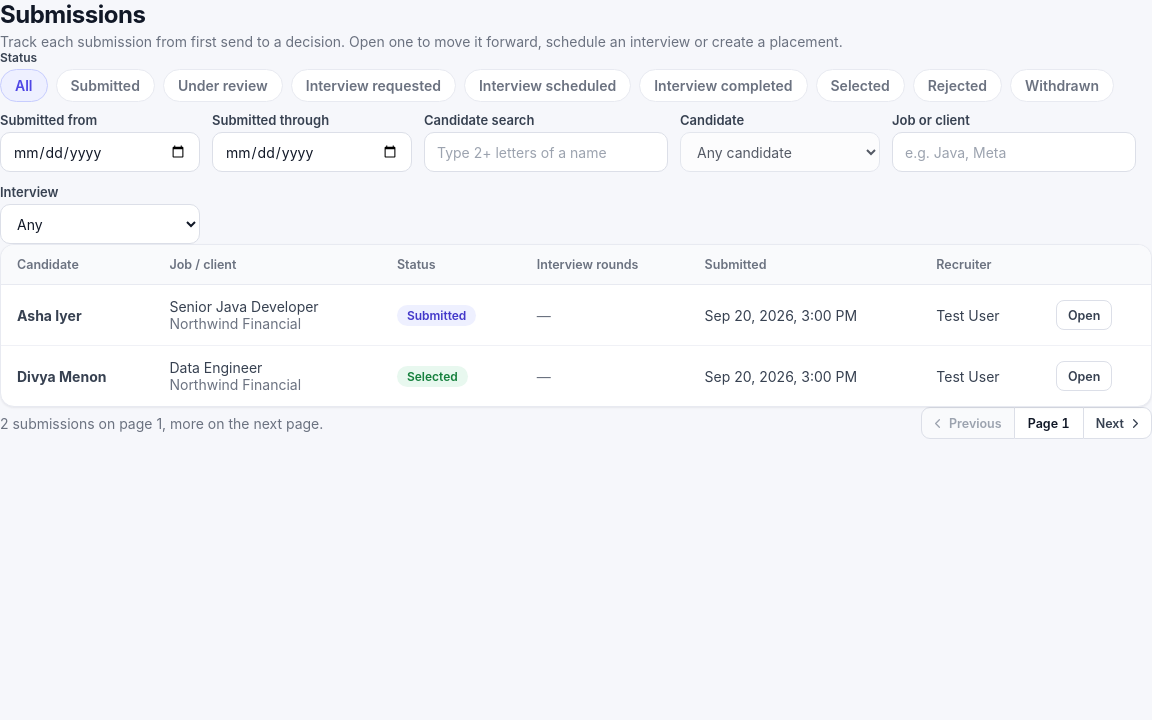
Test case: Submission detail › maps an invalid_transition refusal to plain language
This screenshot has width=1152, height=720.
Click the button with aria-label "Open submission of " at (1084, 315), box [1056,300,1112,330]
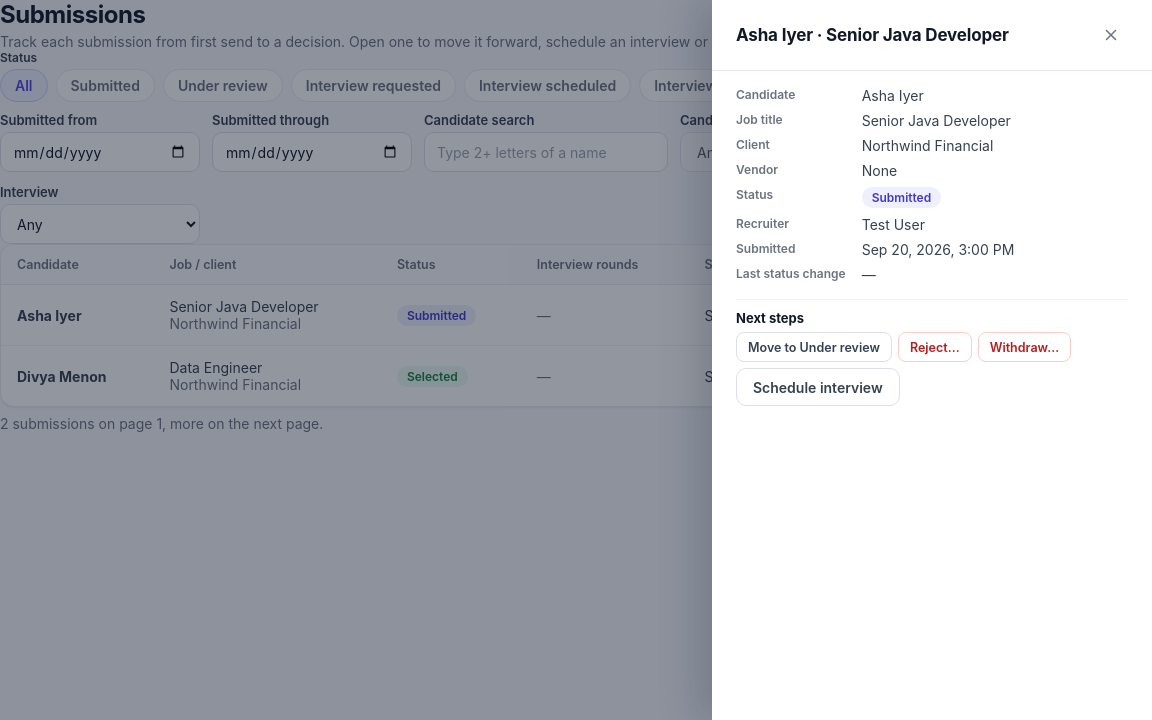
Click the button "Move to Under review" at (814, 347), box [736,332,892,362]
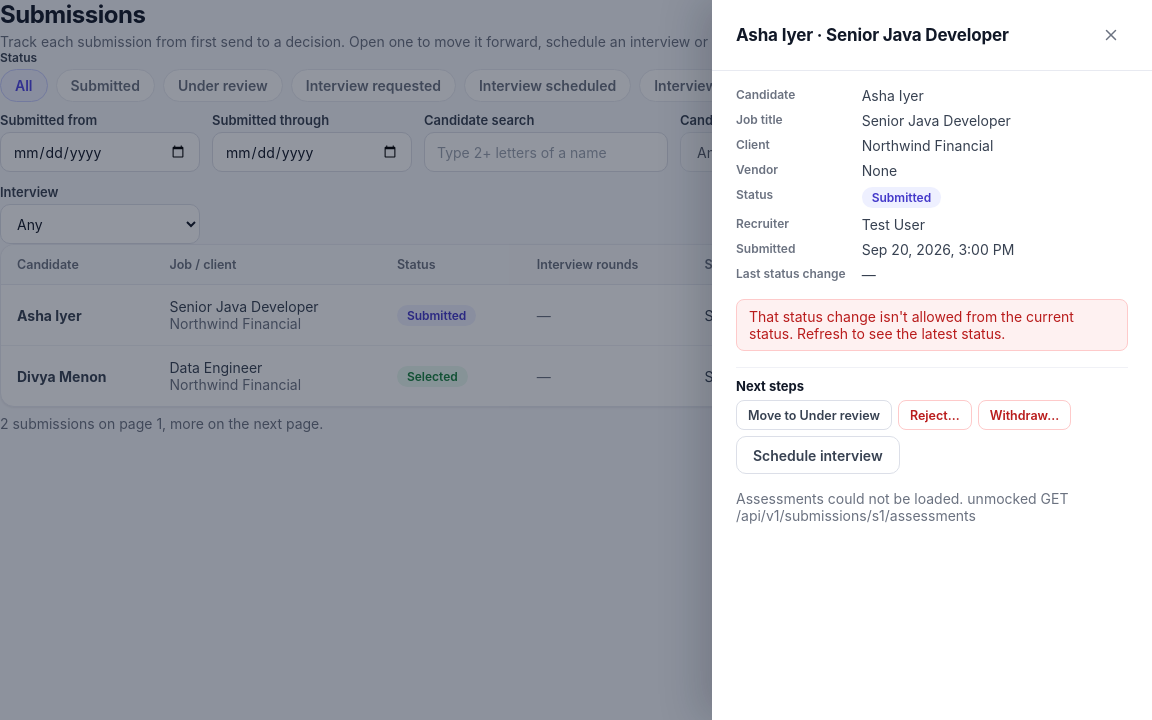
expect the message shows "That status change isn't allowed from the current status.": met, box [749,308,1074,342]
